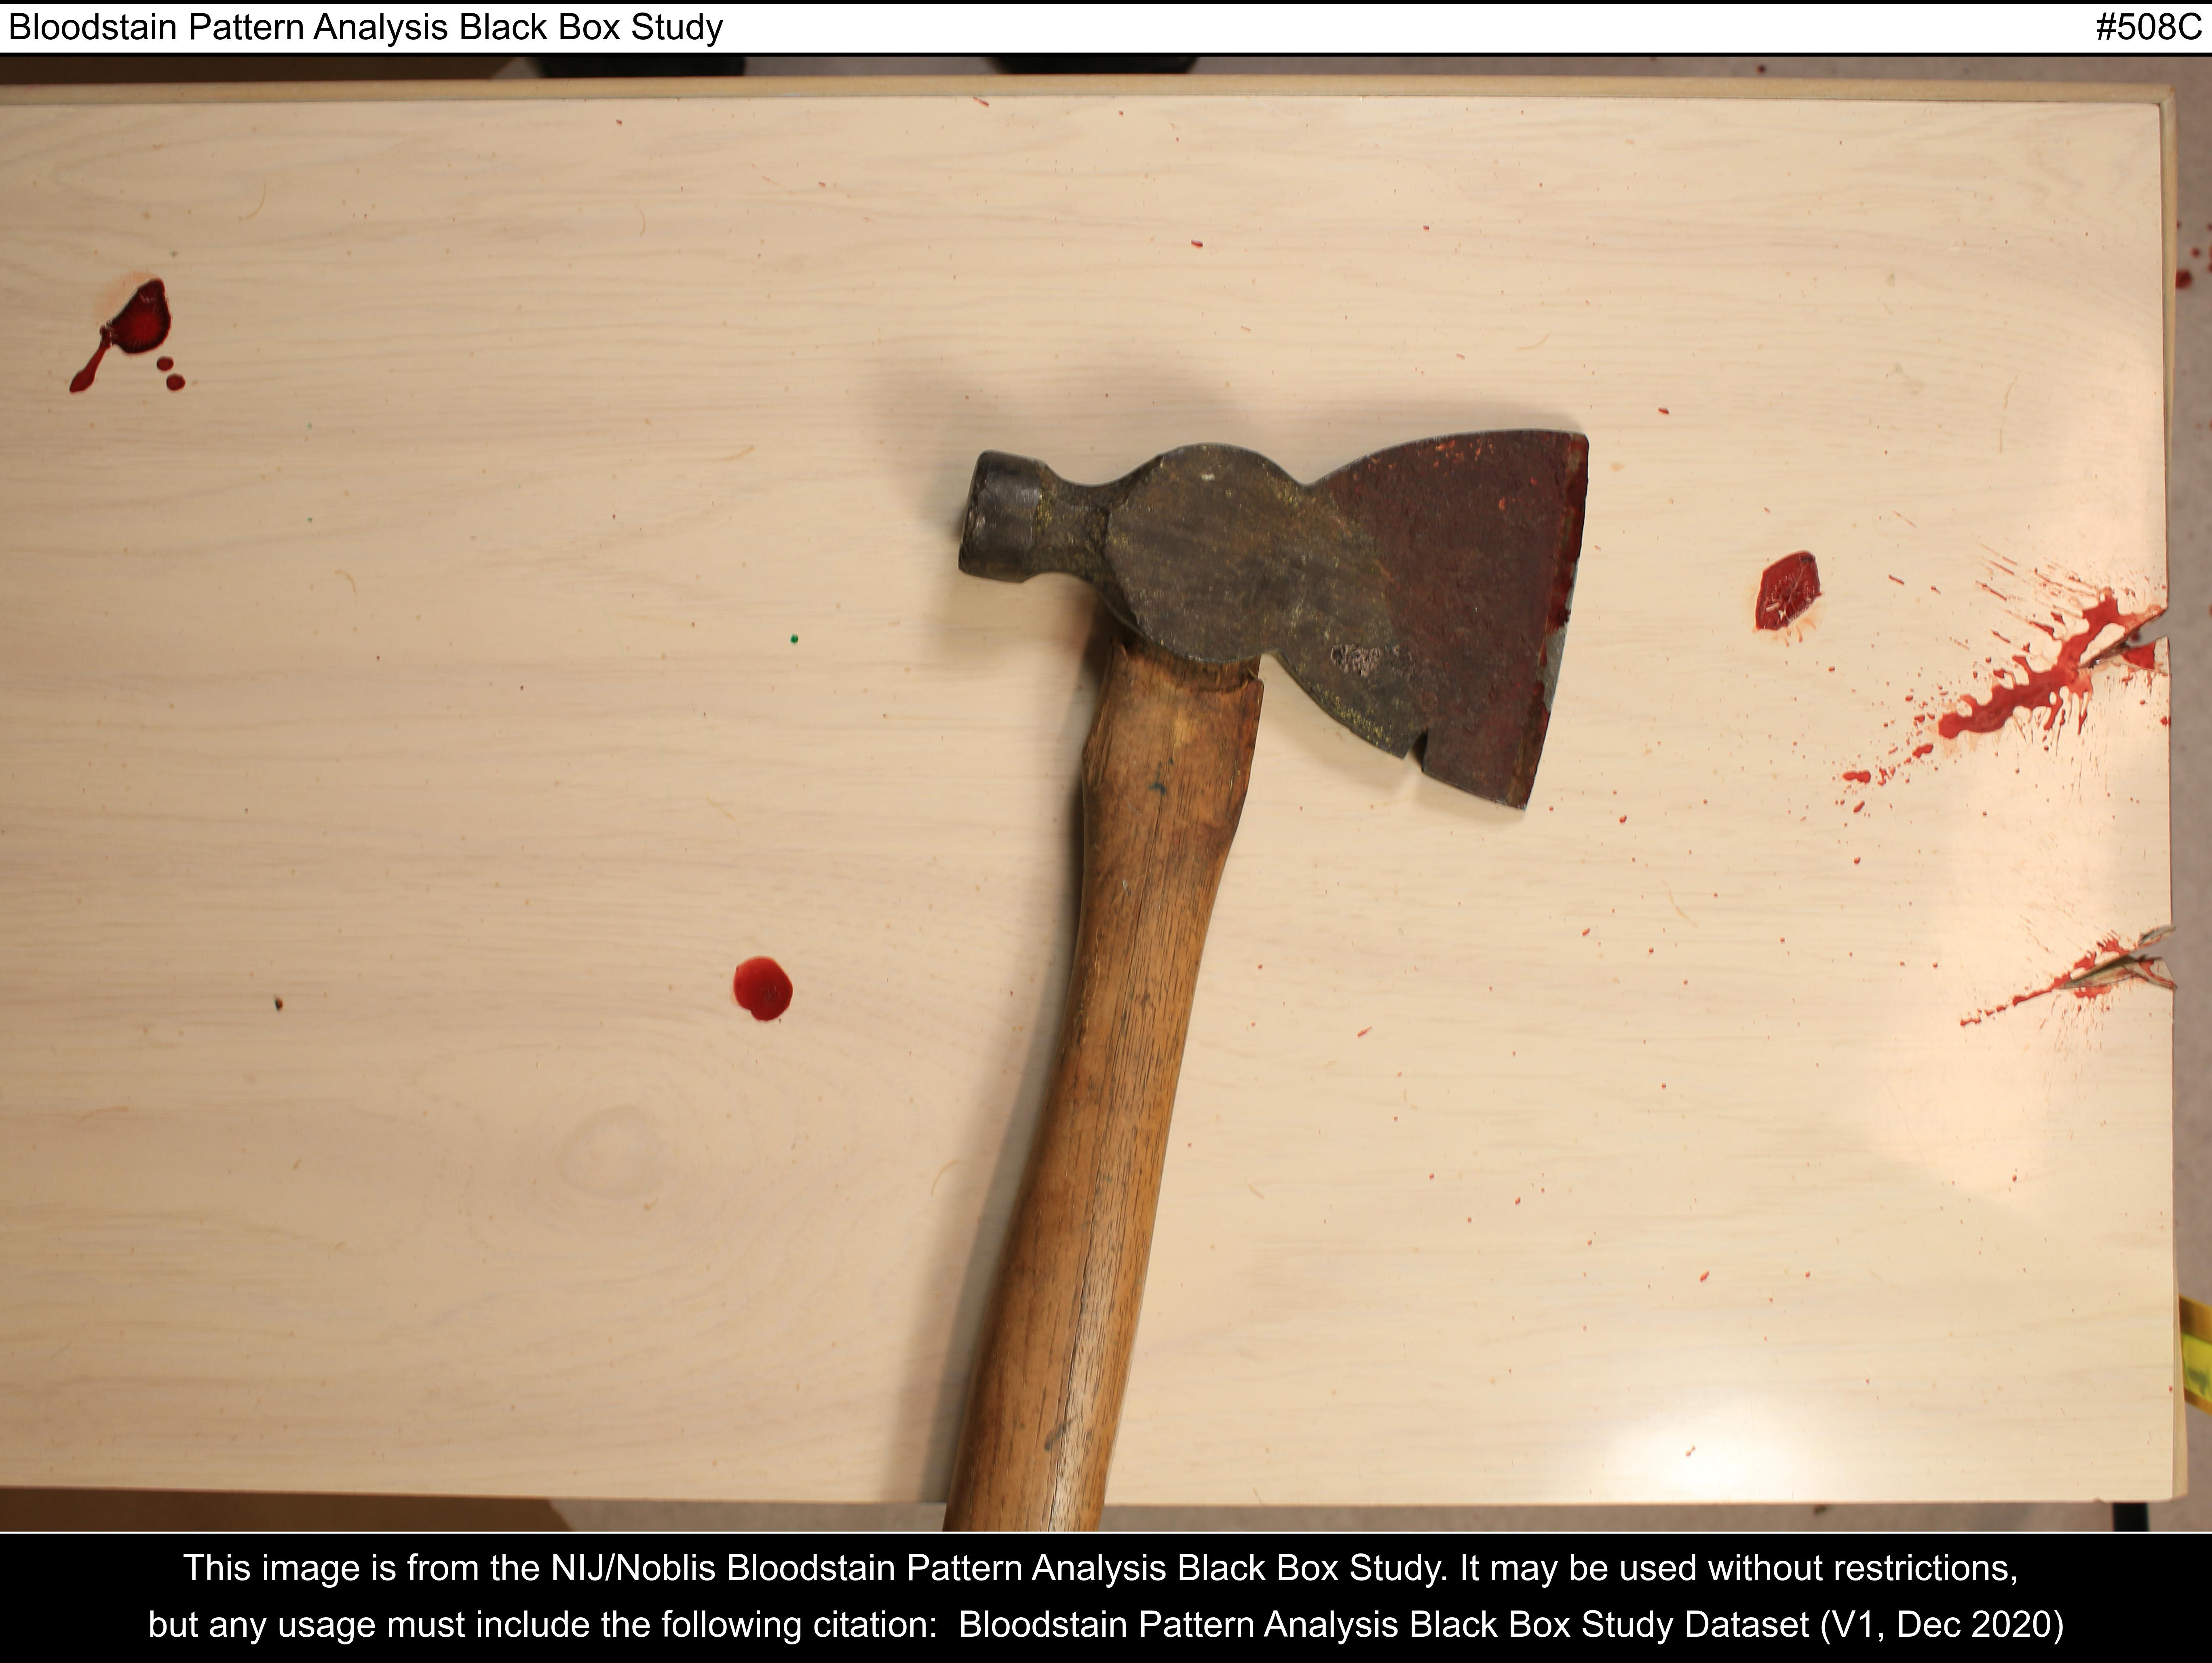Impact: (1875, 522, 2175, 1092)
Passive: (56, 239, 234, 435), (669, 933, 880, 1067), (1709, 524, 1868, 669)
